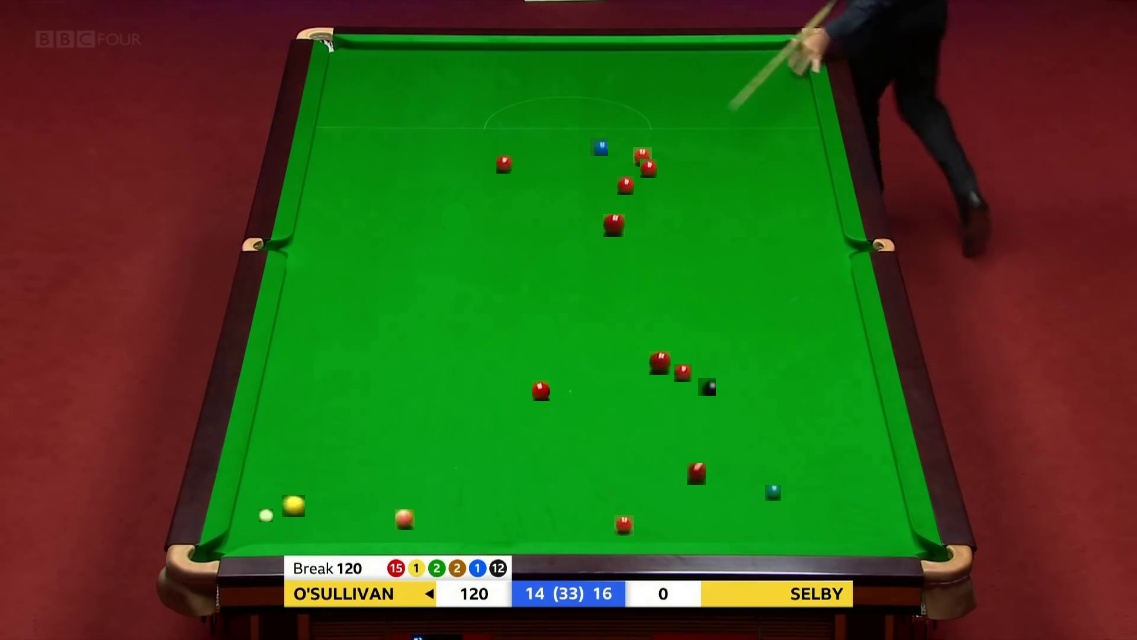black: (698, 378, 716, 396)
blue: (590, 138, 608, 156)
brown: (687, 463, 709, 482)
green: (765, 485, 781, 501)
pink: (395, 509, 416, 529)
red: (649, 351, 673, 373), (603, 214, 626, 236), (614, 515, 635, 535), (633, 147, 653, 166), (532, 380, 553, 398), (674, 364, 692, 382), (640, 159, 659, 176), (496, 155, 515, 172), (617, 176, 636, 193)
white: (259, 509, 272, 523)
yellow: (282, 495, 304, 518)
